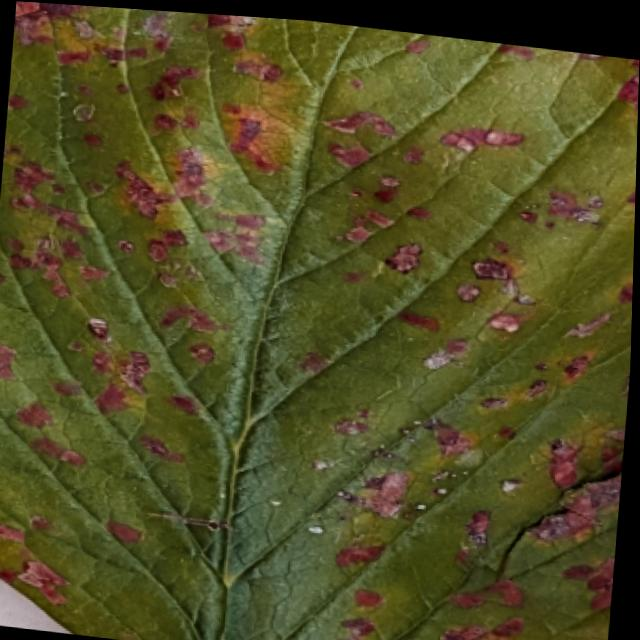Angular Leafspot: (0, 1, 640, 640)
